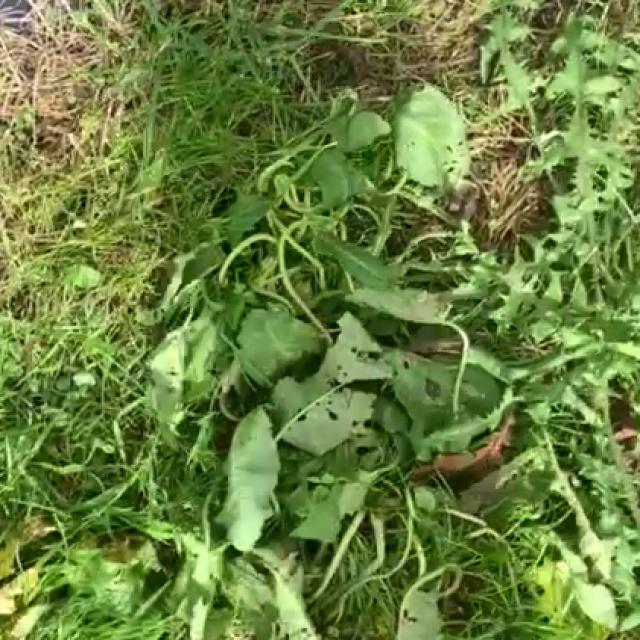organic waste: (178, 93, 556, 460), (97, 278, 549, 552)
